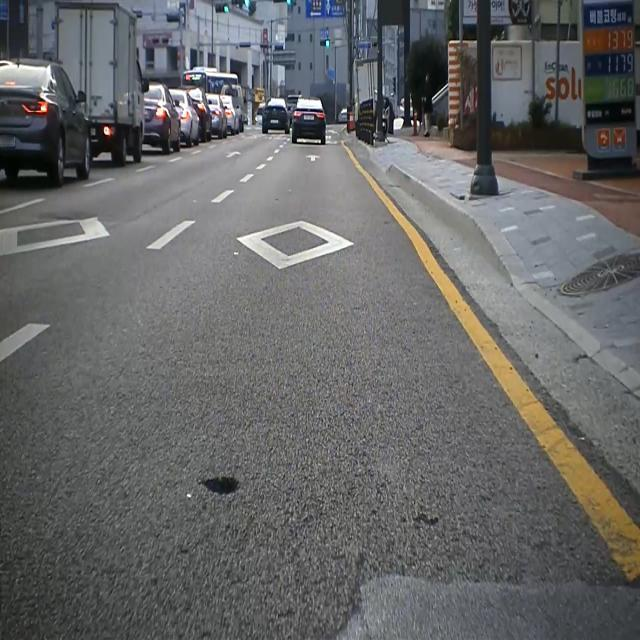Buraco: (195, 473, 245, 498)
